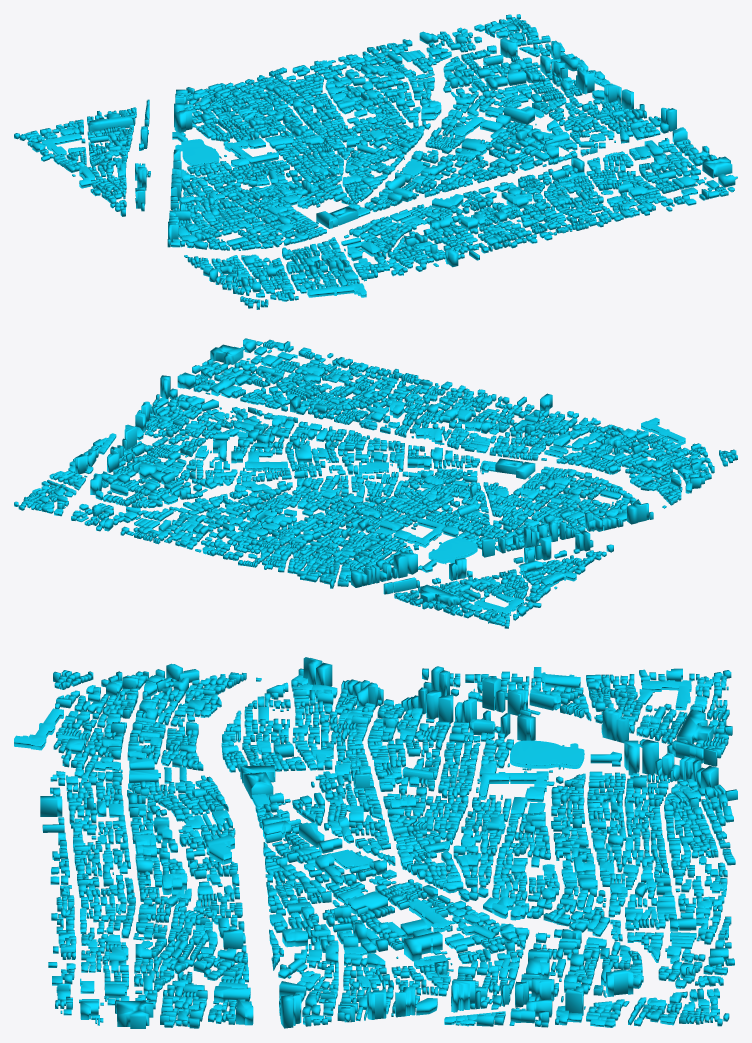
The picture shows the model from 3 angles, top to bottom: view 1: azimuth 30°, elevation 25°; view 2: azimuth 150°, elevation 25°; view 3: azimuth 270°, elevation 25°; orthographic projection. The views are drawn at different scales.
Visible parts, largest first — view 1: BLD_a8087654-69b7-4d76-89a0-2a0a585b7c12; view 2: BLD_a8087654-69b7-4d76-89a0-2a0a585b7c12; view 3: BLD_a8087654-69b7-4d76-89a0-2a0a585b7c12.
Boxes of the visible parts, x1,y1,x2,y2 form: BLD_a8087654-69b7-4d76-89a0-2a0a585b7c12: (14,14,737,309); BLD_a8087654-69b7-4d76-89a0-2a0a585b7c12: (14,338,737,628); BLD_a8087654-69b7-4d76-89a0-2a0a585b7c12: (14,657,737,1028).
Size of the model in its own units: 1154 by 44.57 by 997.
